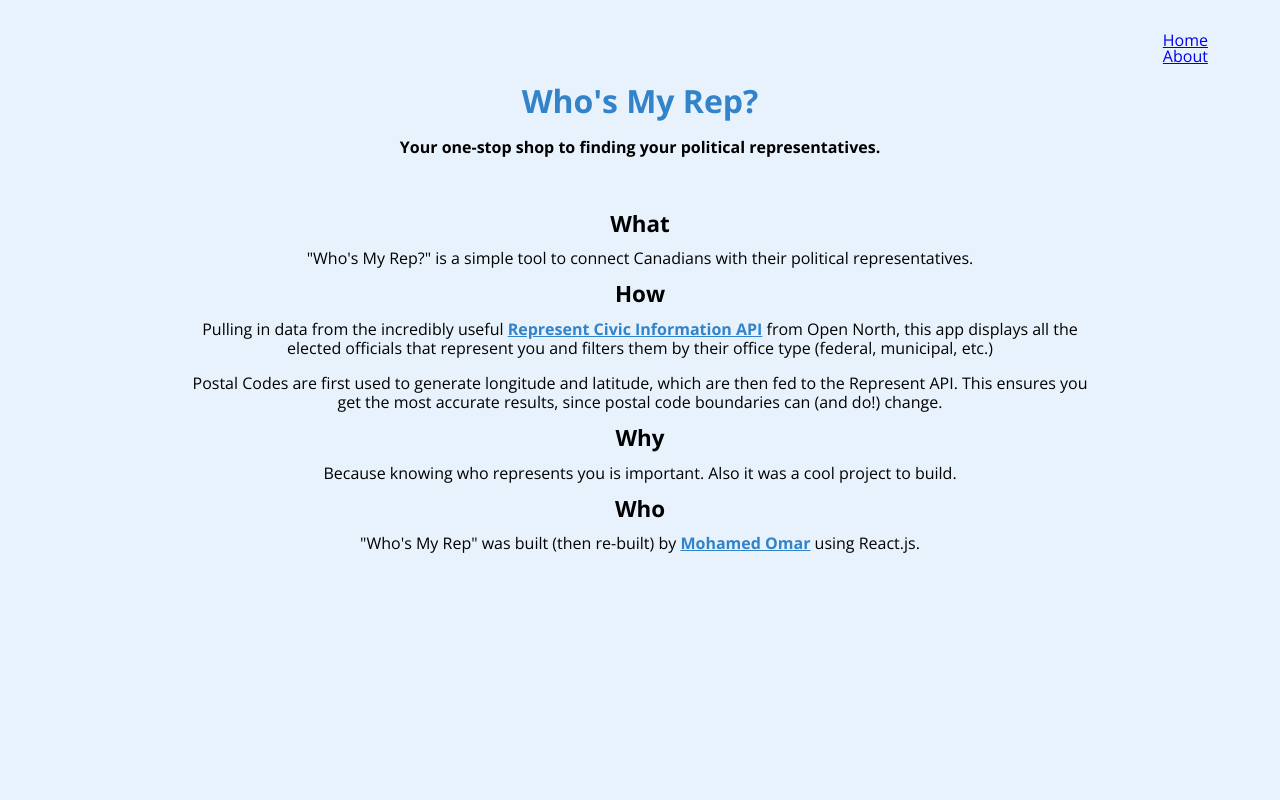
can navigate to home page
Click the link with test id "about-link": [1185, 56] box [1163, 45, 1208, 67]
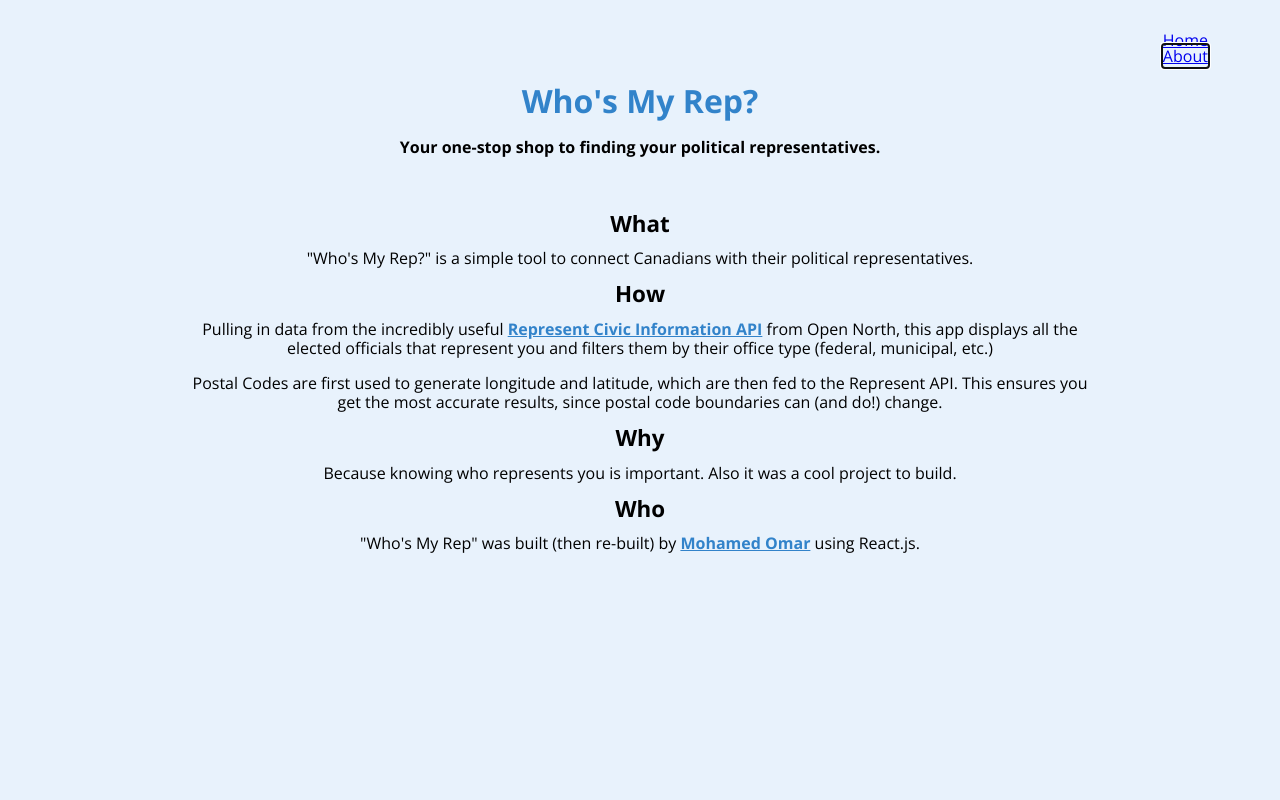
expect the element with test id "about-container" is shown: met, box [186, 214, 1094, 768]
Click the link with test id "home-link": [1185, 40] box [1163, 29, 1208, 51]
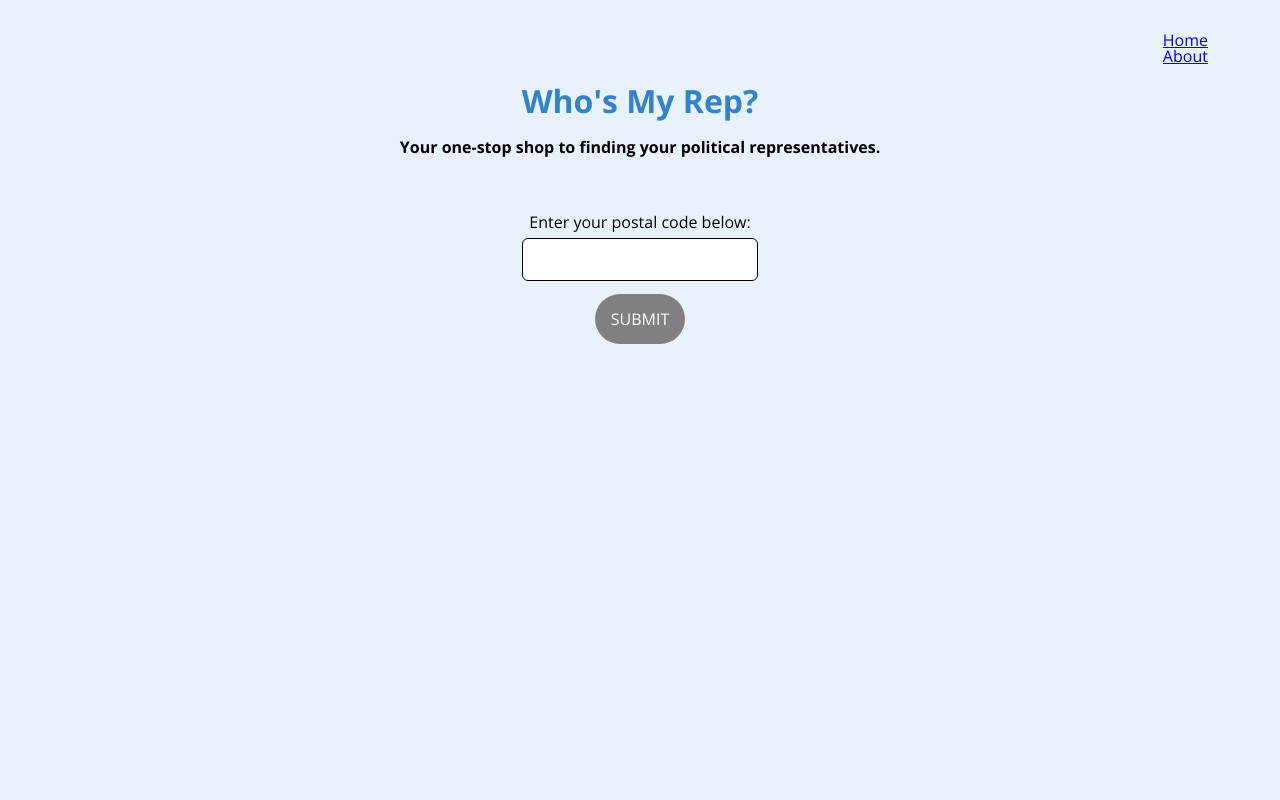
expect the element with test id "about-container" is gone: met
expect the form with test id "postal-code-form" is shown: met, box [522, 211, 758, 344]
